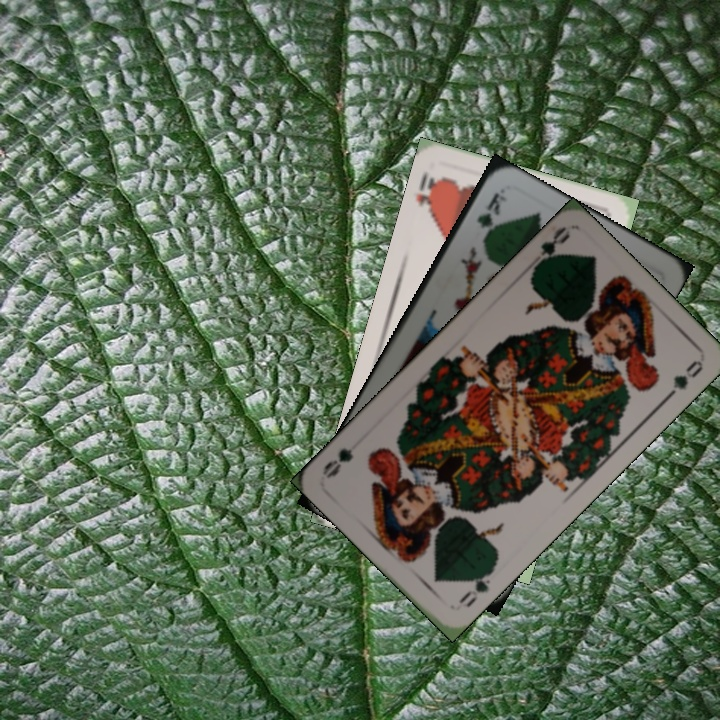GK: (472, 188, 503, 231)
GO: (528, 223, 573, 276), (454, 564, 497, 610)
HO: (411, 171, 444, 221)
